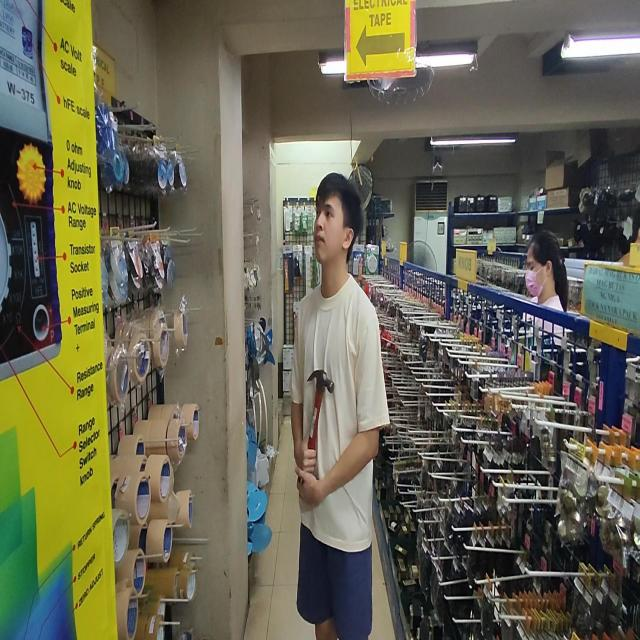hammer: (307, 370, 334, 447)
